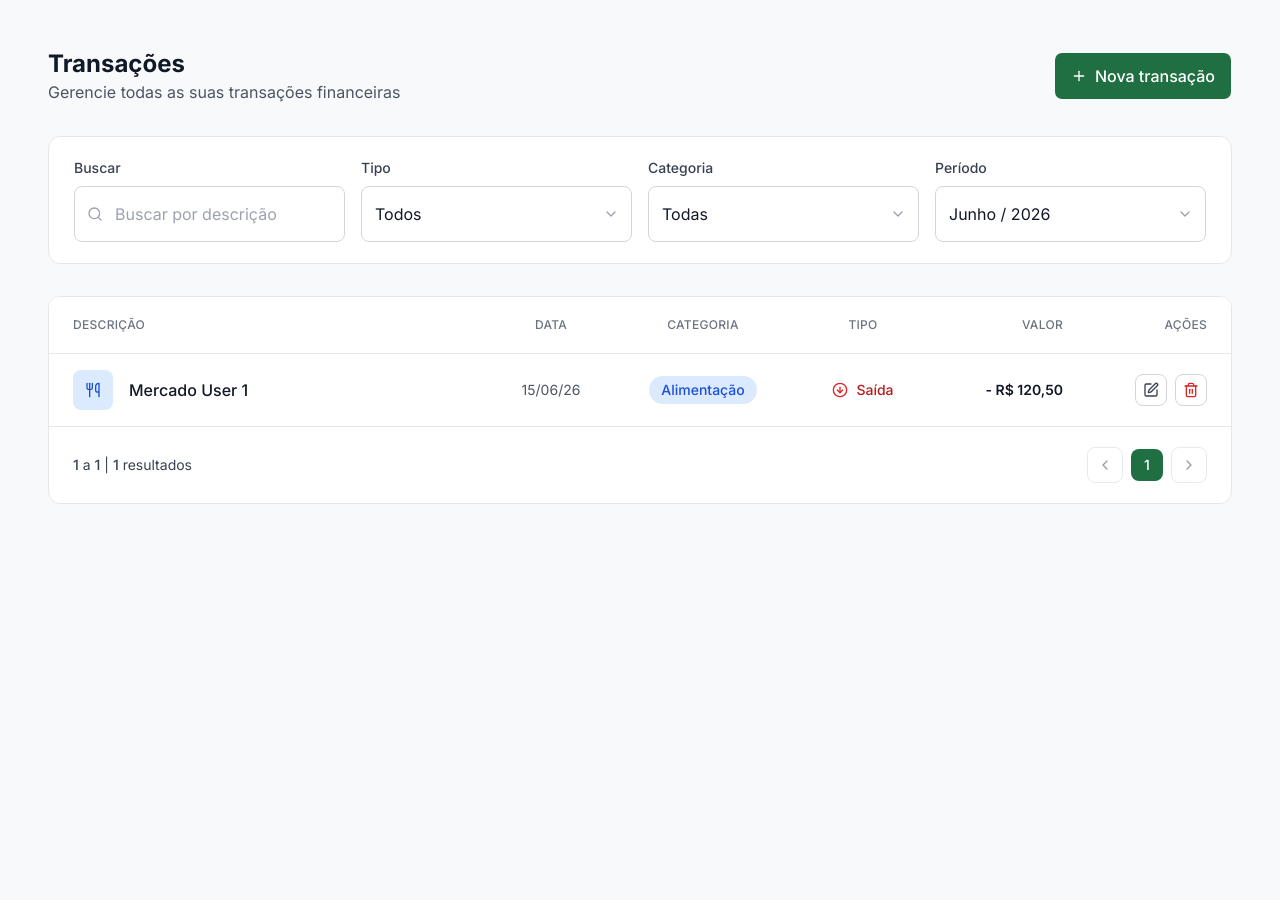
Scenario: Transactions page › abre dialog de edicao ao clicar Editar
Click the button named "Editar" at (1151, 390), box [1135,374,1167,406]
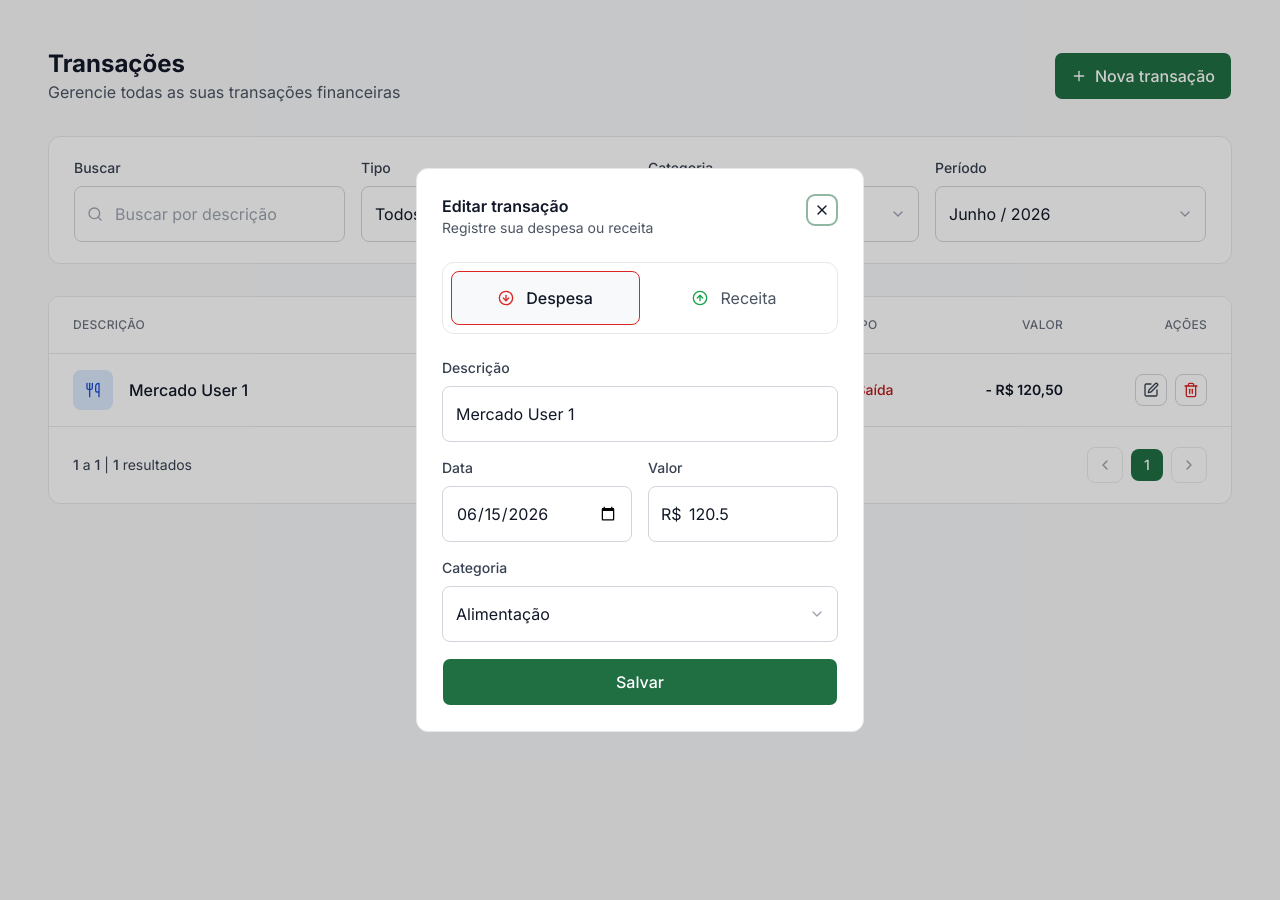
expect the heading "Editar transação" is shown: met, box [442,196,568,216]
expect the field labelled "Descrição" holds "Mercado User 1": met, box [442,386,838,442]
